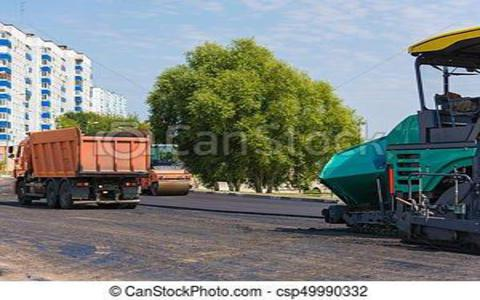Proper road: (198, 191, 310, 217)
